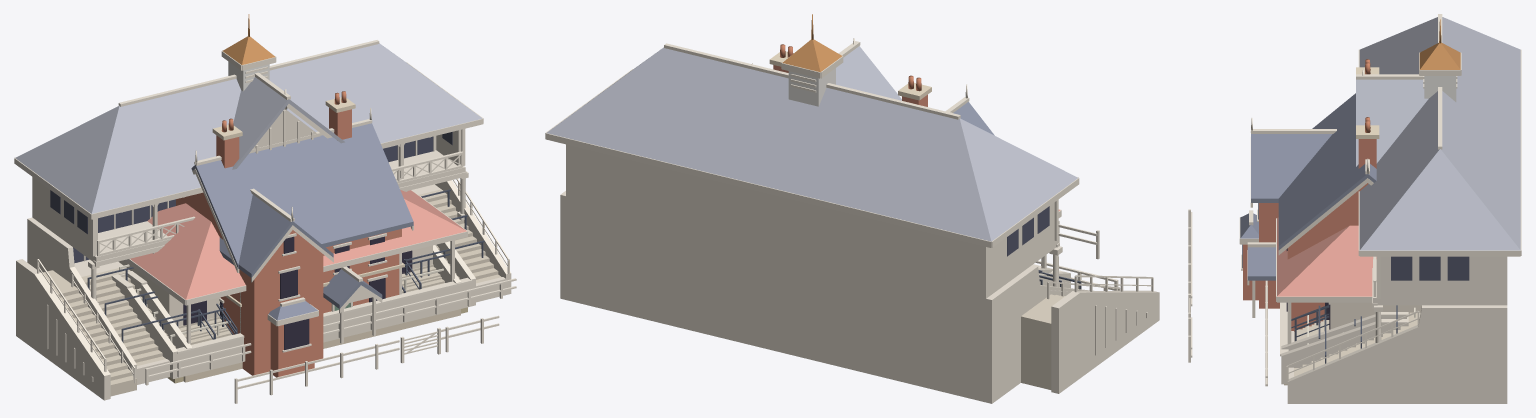
Rendered from gen-tight-l-small_stands.glb.
3 views of the same model, side by side, from view 1: azimuth 30°, elevation 25°; view 2: azimuth 150°, elevation 25°; view 3: azimuth 270°, elevation 25° (orthographic). The views are drawn at different scales.
Visible parts, largest first — view 1: gen_pavilion_small, victorian_house, ring_pavilion_small, gen_terrace_18, gen_terrace_20, park_terrace; view 2: gen_pavilion_small, victorian_house; view 3: gen_pavilion_small, victorian_house, ring_pavilion_small, gen_terrace_20, gen_terrace_18.
Boxes of the visible parts, x1,y1,x2,y2 form: gen_pavilion_small: [14, 14, 516, 400]; victorian_house: [176, 91, 499, 403]; ring_pavilion_small: [118, 190, 467, 382]; gen_terrace_18: [127, 245, 461, 374]; gen_terrace_20: [111, 241, 475, 378]; park_terrace: [119, 244, 467, 383]; gen_pavilion_small: [545, 14, 1159, 403]; victorian_house: [752, 44, 1099, 259]; gen_pavilion_small: [1265, 14, 1521, 403]; victorian_house: [1188, 59, 1379, 362]; ring_pavilion_small: [1276, 217, 1421, 385]; gen_terrace_20: [1280, 303, 1408, 384]; gen_terrace_18: [1280, 302, 1408, 350].
Size of the model in its own units: 28.8 by 18.3 by 18.73.
